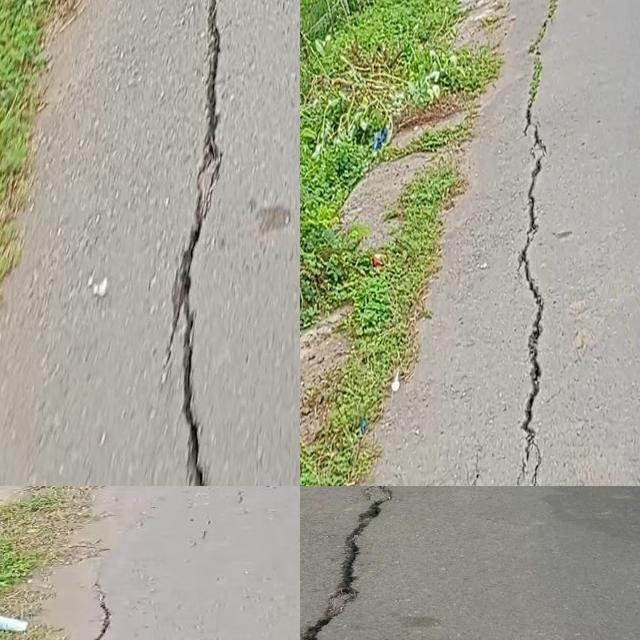Memanjang: (151, 0, 238, 486), (505, 0, 569, 486), (300, 486, 404, 640), (76, 577, 123, 640)
